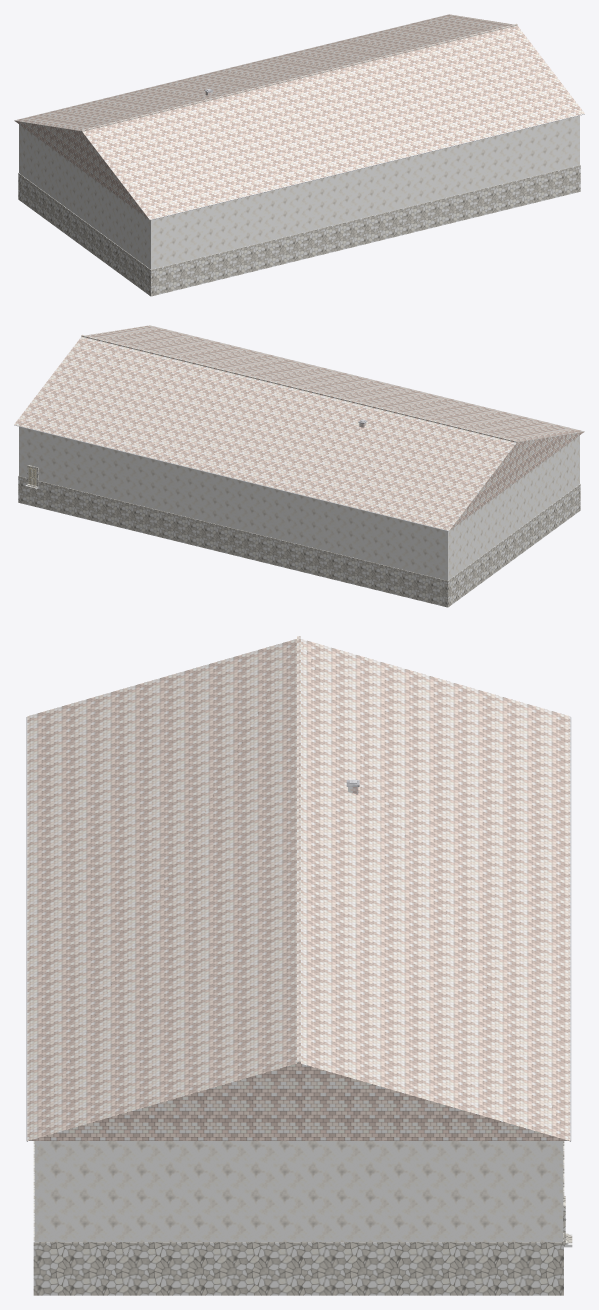
3 renders of one model, top to bottom at view 1: azimuth 30°, elevation 25°; view 2: azimuth 150°, elevation 25°; view 3: azimuth 270°, elevation 25°, orthographic. The views are drawn at different scales.
Visible parts, largest first — view 1: b1085383211; view 2: b1085383211; view 3: b1085383211.
Part boxes in pixels (bbox=[...]): b1085383211: bbox=[14, 14, 584, 296]; b1085383211: bbox=[14, 325, 584, 607]; b1085383211: bbox=[26, 636, 572, 1295].
Bounding box in the file's own units: 49.28 × 12.8 × 26.74.
14 materials, 14 textured.
